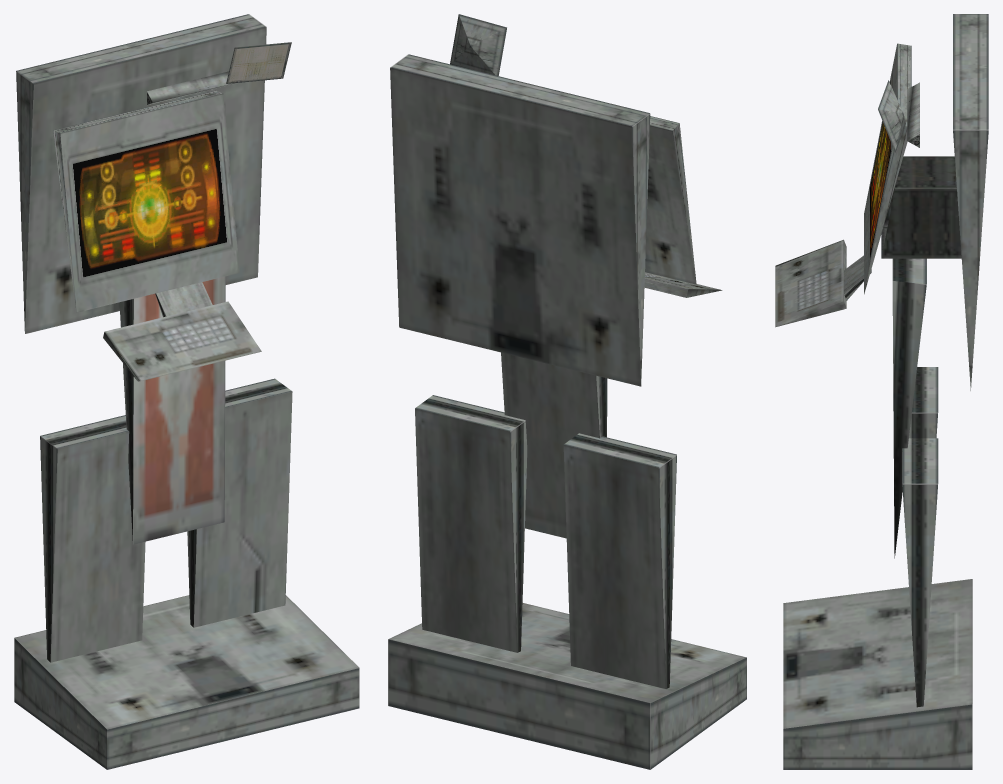
File: ksk_all_mission_l3.fbx
The picture shows the model from 3 angles, left to right: view 1: azimuth 30°, elevation 25°; view 2: azimuth 150°, elevation 25°; view 3: azimuth 270°, elevation 25°; orthographic projection. The views are drawn at different scales.
Visible parts, largest first — view 1: mesh_node; view 2: mesh_node; view 3: mesh_node.
Boxes of the visible parts, bbox=[...] form: mesh_node: bbox=[14, 14, 359, 769]; mesh_node: bbox=[388, 14, 746, 769]; mesh_node: bbox=[775, 14, 988, 769].
Size of the model in its own units: 0.8471 by 2.05 by 0.6085.
